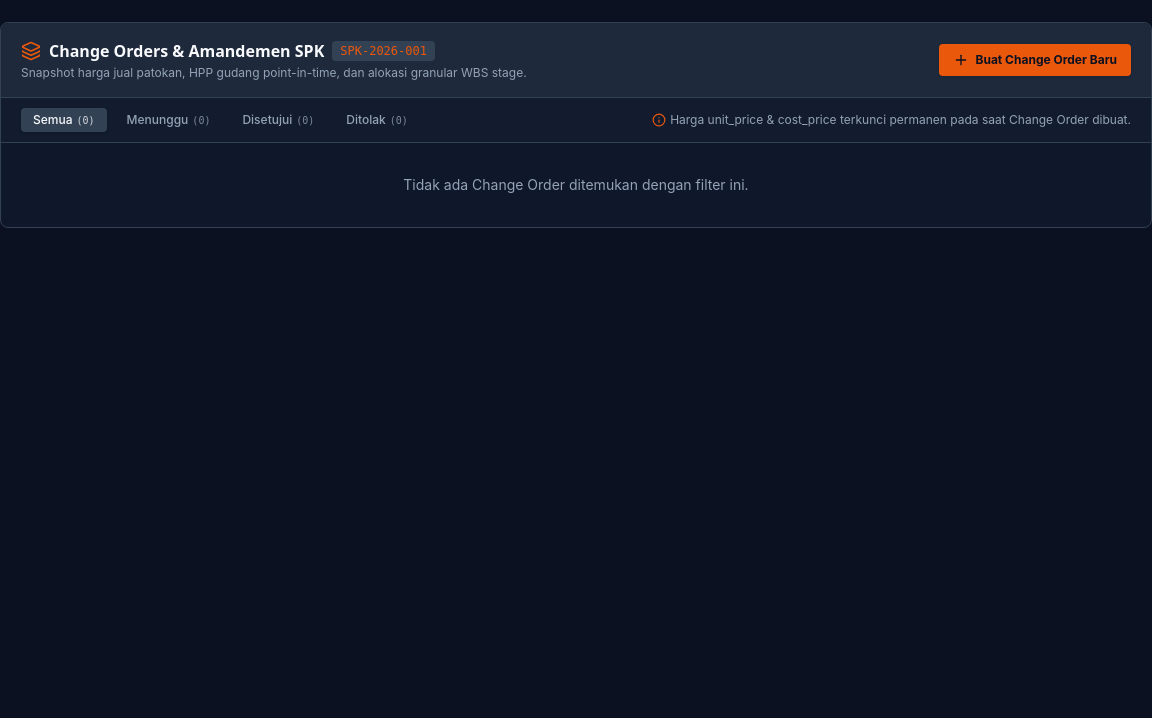
Component: AmendmentManager (Split-Panel 2-Column Change Order UI) › Sprint 86: Default WBS Allocations Initial Value to Zero in Change Order Form › Verifikasi 1: opens form and verifies all WBS inputs 1 through 5 display 0 and status badge is Sisa: 1.00
Click the button "Buat Change Order Baru": {"x": 1035, "y": 60} x1=940 y1=44 x2=1131 y2=76
(page scrolled)
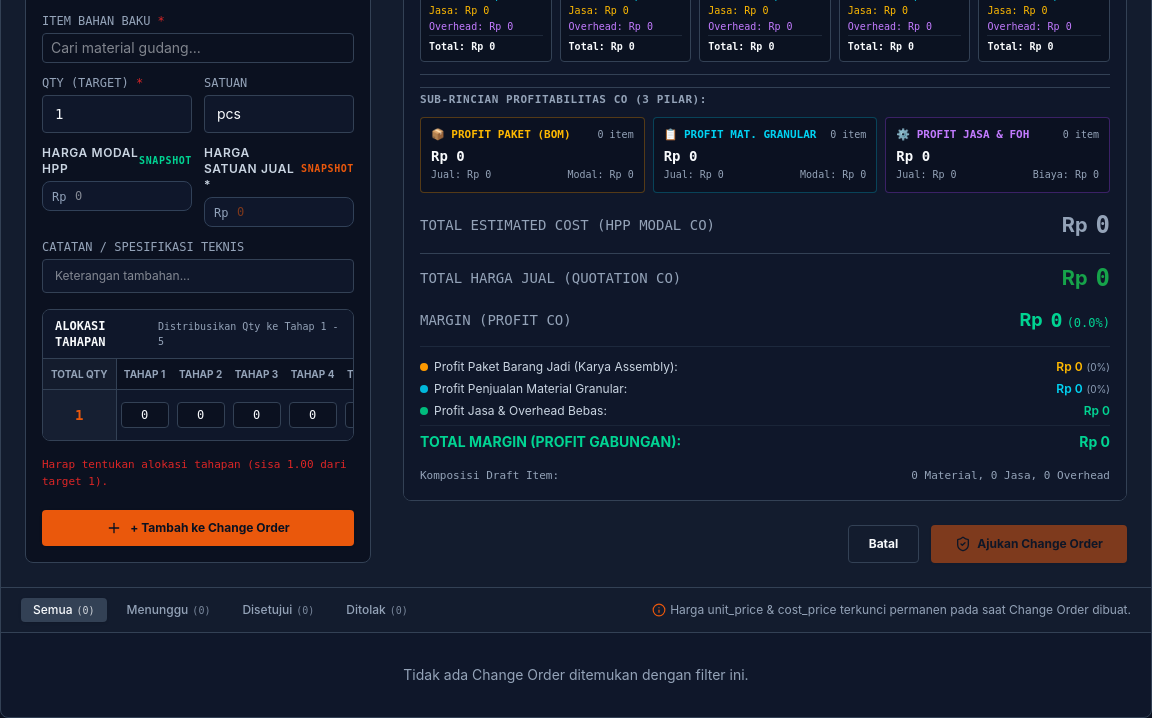
Check: the field named "Alokasi Tahapan 1: Pembongkaran" holds "0", box x1=120 y1=402 x2=168 y2=428
Check: the field named "Alokasi Tahapan 2: Sasis/Rangka" holds "0", box x1=176 y1=402 x2=224 y2=428
Check: the field named "Alokasi Tahapan 3: Dinding/Fabrikasi" holds "0", box x1=232 y1=402 x2=280 y2=428
